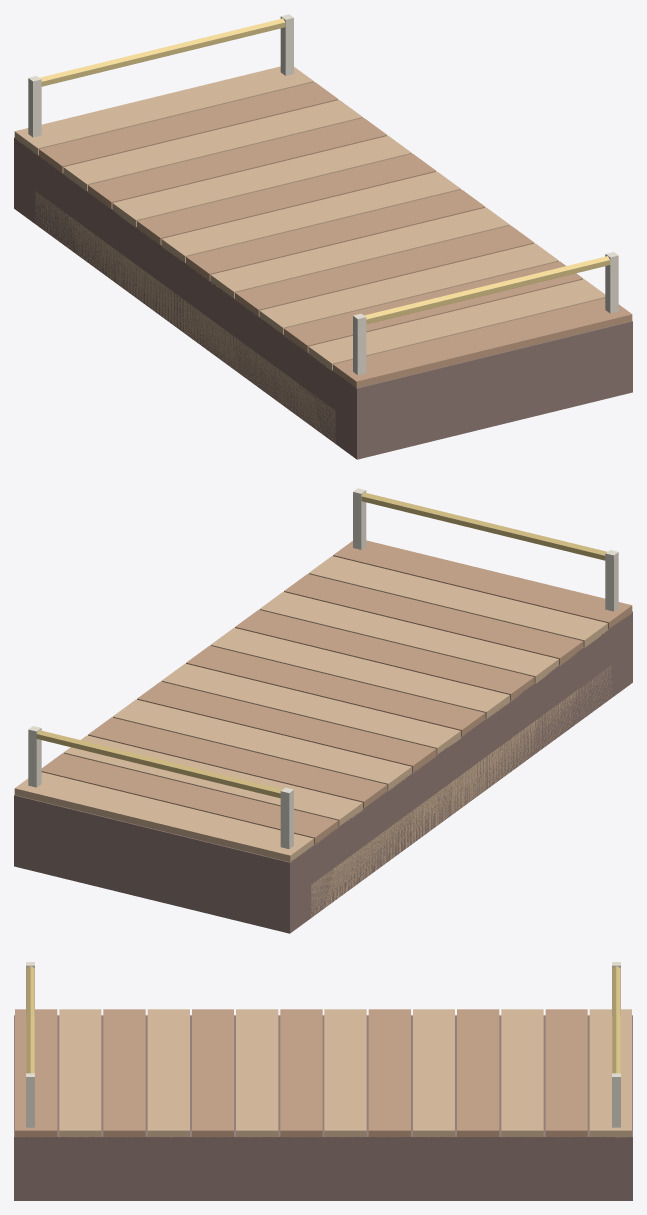
Rendered from grada.glb.
3 views of the same model, one above another, from view 1: azimuth 30°, elevation 25°; view 2: azimuth 150°, elevation 25°; view 3: azimuth 270°, elevation 25° (orthographic). The views are drawn at different scales.
Visible parts, largest first — view 1: grada; view 2: grada; view 3: grada.
Boxes of the visible parts, x1,y1,x2,y2 form: grada: (14,14,632,459); grada: (14,488,632,933); grada: (14,962,632,1200).
Size of the model in its own units: 2.6 by 1.21 by 5.6.
